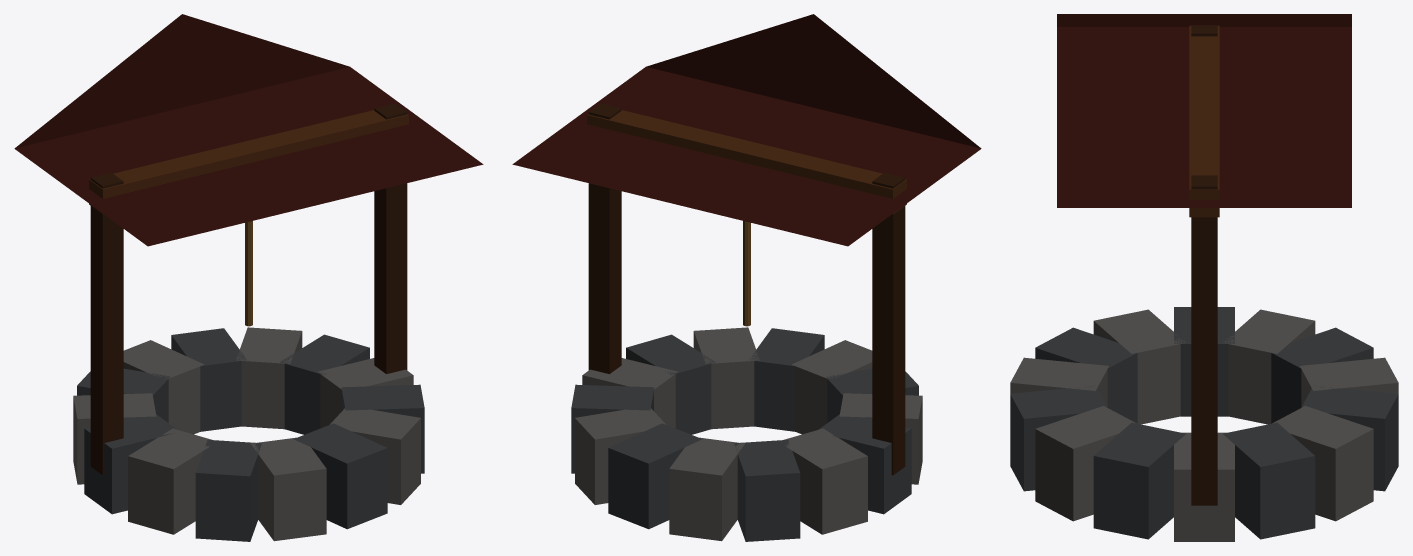
Rendered from Well_A.obj.
3 views of the same model, side by side, from view 1: azimuth 30°, elevation 25°; view 2: azimuth 150°, elevation 25°; view 3: azimuth 270°, elevation 25° (orthographic). The views are drawn at different scales.
Parts seen in each view (by area): view 1: WellRoof, WellPostL, WellBeam, WellPostR, WellStone6, WellStone4, WellStone3, WellStone5, WellStone12, WellStone11, WellStone13, WellStone2 (+7 smaller); view 2: WellRoof, WellPostL, WellBeam, WellPostR, WellStone8, WellStone10, WellStone11, WellStone9, WellStone2, WellStone3, WellStone1, WellStone12 (+7 smaller); view 3: WellRoof, WellPostR, WellStone1, WellStone13, WellStone2, WellStone12, WellStone8, WellStone6, WellBeam, WellStone0, WellStone3, WellStone11 (+5 smaller).
Boxes of the visible parts, box(x1,y1,x2,y2) form: WellRoof: box(14, 14, 483, 246); WellPostL: box(90, 172, 123, 475); WellBeam: box(89, 110, 408, 214); WellPostR: box(374, 103, 407, 373); WellStone6: box(128, 428, 211, 534); WellStone4: box(251, 437, 326, 541); WellStone3: box(293, 423, 387, 529); WellStone5: box(195, 440, 261, 541); WellStone12: box(236, 327, 302, 429); WellStone11: box(171, 328, 246, 431); WellStone13: box(280, 334, 369, 434); WellStone2: box(330, 408, 420, 504); WellRoof: box(512, 14, 981, 246); WellPostL: box(872, 172, 905, 475); WellBeam: box(587, 110, 906, 214); WellPostR: box(588, 103, 621, 373); WellStone8: box(784, 428, 867, 534); WellStone10: box(669, 437, 744, 541); WellStone11: box(608, 423, 702, 529); WellStone9: box(734, 440, 800, 541); WellStone2: box(693, 327, 759, 429); WellStone3: box(749, 328, 824, 431); WellStone1: box(626, 334, 715, 434); WellStone12: box(575, 408, 665, 504); WellRoof: box(1057, 14, 1351, 207); WellPostR: box(1191, 175, 1217, 505); WellStone1: box(1093, 422, 1185, 539); WellStone13: box(1223, 422, 1315, 539); WellStone2: box(1035, 406, 1136, 521); WellStone12: box(1272, 406, 1373, 521); WellStone8: box(1223, 309, 1315, 424); WellStone6: box(1093, 309, 1185, 424); WellBeam: box(1189, 25, 1219, 217); WellStone0: box(1174, 432, 1234, 541); WellStone3: box(1010, 385, 1107, 491); WellStone11: box(1301, 385, 1398, 491).
Size of the model in its own units: 2.25 by 2.59 by 2.04.
